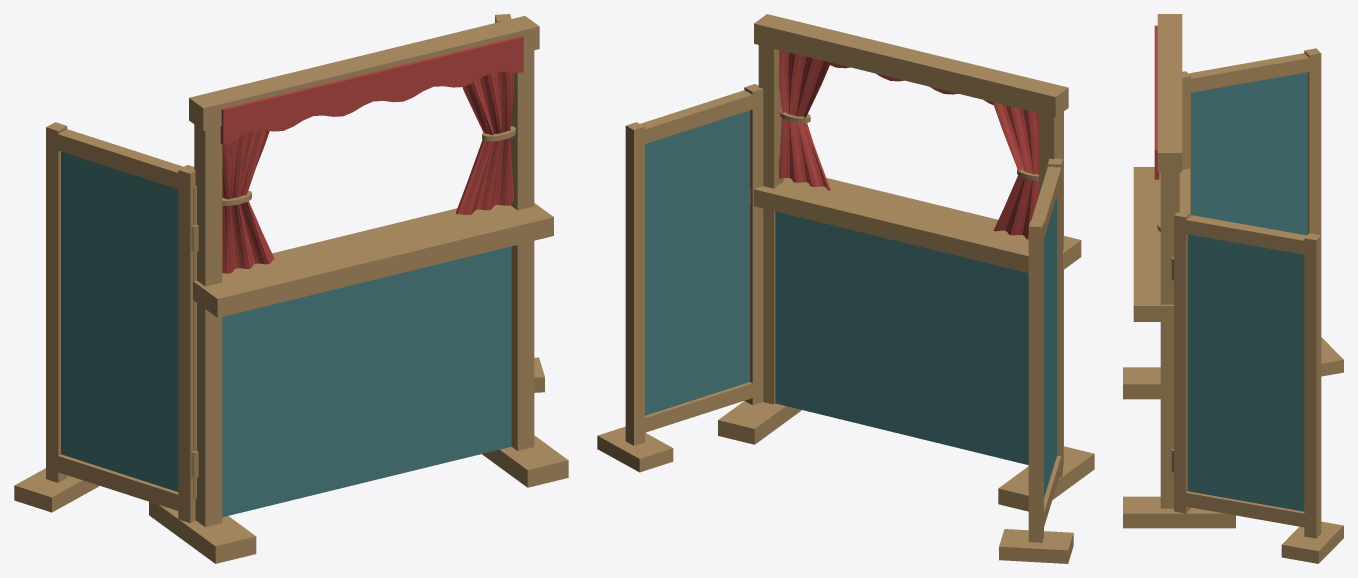
The picture shows the model from 3 angles, left to right: view 1: azimuth 30°, elevation 25°; view 2: azimuth 150°, elevation 25°; view 3: azimuth 270°, elevation 25°; orthographic projection. The views are drawn at different scales.
Visible parts, largest first — view 1: WholeLowerConcealmentScreen, LeftWholeInsetWingPanel, WholePerformanceWindowSill, WholeScallopedUpperValance, LeftWholeFrontProsceniumPost, RightWholeFrontProsceniumPost, WholeProsceniumHeader, LeftInnerStile, RightWholeGatheredPleatedCurtain, LeftOuterStile, LeftWholeGatheredPleatedCurtain, LeftTopRail (+5 smaller); view 2: WholeLowerConcealmentScreen, RightWholeInsetWingPanel, WholePerformanceWindowSill, WholeProsceniumHeader, RightOuterStile, RightWholeFrontProsceniumPost, LeftOuterStile, RightWholeGatheredPleatedCurtain, RightInnerStile, LeftWholeGatheredPleatedCurtain, LeftWholeInsetWingPanel, RightTopRail (+8 smaller); view 3: RightWholeInsetWingPanel, LeftWholeInsetWingPanel, RightOuterStile, WholePerformanceWindowSill, RightWholeFrontProsceniumPost, RightInnerStile, WholeProsceniumHeader, LeftOuterStile, RightWholeGroundFoot, LeftTopRail, RightTopRail, RightBottomRail (+5 smaller).
Part boxes in pixels (x1,y1,x2,y2): WholeLowerConcealmentScreen: (222, 246, 511, 517); LeftWholeInsetWingPanel: (61, 151, 178, 491); WholePerformanceWindowSill: (193, 203, 553, 317); WholeScallopedUpperValance: (220, 36, 523, 145); LeftWholeFrontProsceniumPost: (194, 124, 222, 526); RightWholeFrontProsceniumPost: (510, 50, 534, 450); WholeProsceniumHeader: (189, 16, 539, 130); LeftInnerStile: (178, 165, 195, 526); RightWholeGatheredPleatedCurtain: (456, 71, 513, 214); LeftOuterStile: (46, 122, 67, 482); LeftWholeGatheredPleatedCurtain: (222, 130, 274, 273); LeftTopRail: (51, 129, 184, 191); WholeLowerConcealmentScreen: (775, 211, 1028, 464); RightWholeInsetWingPanel: (645, 110, 749, 415); WholePerformanceWindowSill: (750, 178, 1081, 272); WholeProsceniumHeader: (754, 14, 1068, 117); RightOuterStile: (625, 122, 644, 445); RightWholeFrontProsceniumPost: (758, 45, 783, 404); LeftOuterStile: (1028, 220, 1043, 542); RightWholeGatheredPleatedCurtain: (779, 50, 830, 190); RightInnerStile: (744, 84, 763, 405); LeftWholeGatheredPleatedCurtain: (992, 102, 1038, 239); LeftWholeInsetWingPanel: (1044, 197, 1056, 497); RightTopRail: (639, 90, 758, 145); RightWholeInsetWingPanel: (1187, 234, 1304, 511); LeftWholeInsetWingPanel: (1191, 72, 1307, 235); RightOuterStile: (1304, 233, 1321, 538); WholePerformanceWindowSill: (1133, 167, 1189, 321); RightWholeFrontProsceniumPost: (1160, 172, 1179, 508); RightInnerStile: (1174, 210, 1190, 519); WholeProsceniumHeader: (1157, 14, 1182, 172); LeftOuterStile: (1304, 48, 1321, 234); RightWholeGroundFoot: (1123, 496, 1235, 528); LeftTopRail: (1184, 53, 1315, 93); RightTopRail: (1179, 215, 1310, 255); RightBottomRail: (1179, 491, 1310, 528).
Bounding box in the file's own units: 2.18 × 1.75 × 0.9392.
